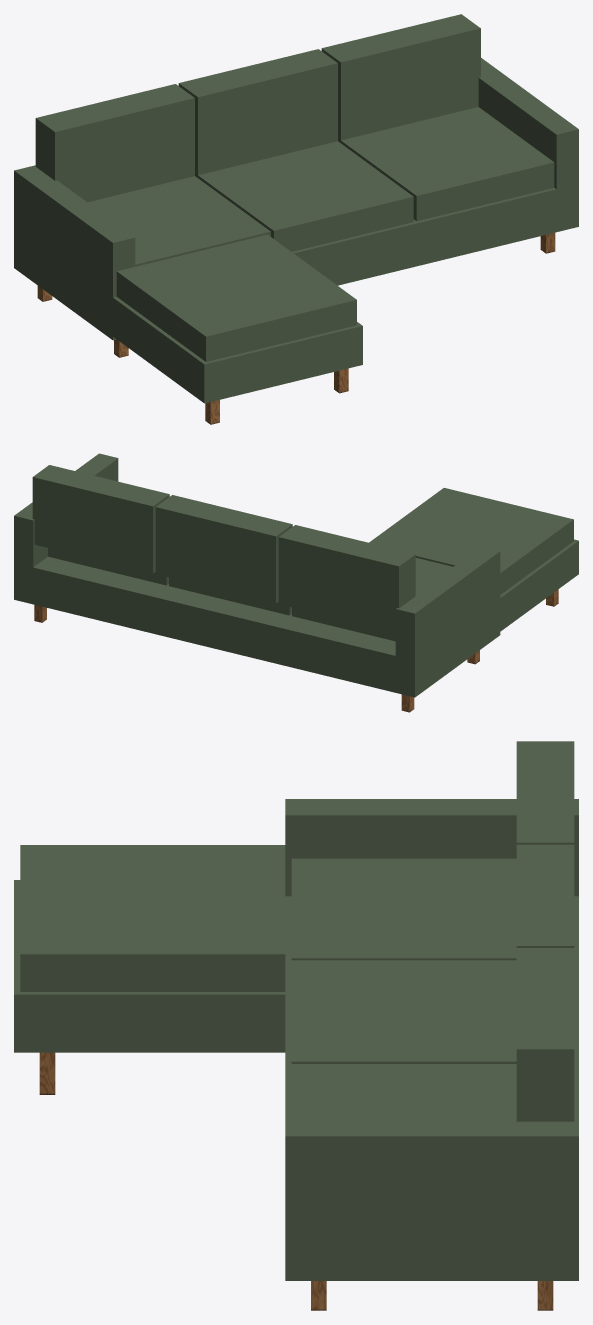
Rendered from Sarokkanape_bal.obj.
The picture shows the model from 3 angles, top to bottom: view 1: azimuth 30°, elevation 25°; view 2: azimuth 150°, elevation 25°; view 3: azimuth 270°, elevation 25°; orthographic projection. The views are drawn at different scales.
Size of the model in its own units: 2.5 by 0.89 by 1.77.
Materials: 2 (1 with a texture image).
